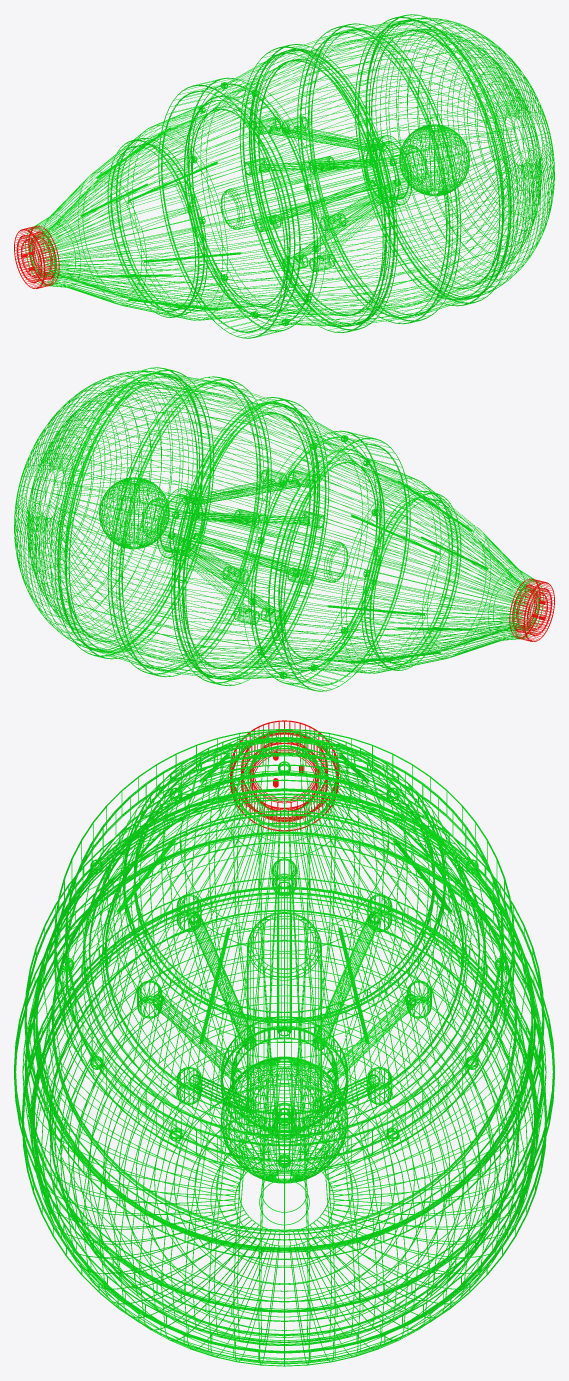
The model's file is shield-x50-highlight-power-input.glb.
The picture shows the model from 3 angles, top to bottom: view 1: azimuth 30°, elevation 25°; view 2: azimuth 150°, elevation 25°; view 3: azimuth 270°, elevation 25°; orthographic projection. The views are drawn at different scales.
Parts seen in each view (by area): view 1: chassis technical wire, paramagnetic-shielding technical wire, generator-and-broadcast-system technical wire, power-input technical wire; view 2: chassis technical wire, paramagnetic-shielding technical wire, generator-and-broadcast-system technical wire, power-input technical wire; view 3: paramagnetic-shielding technical wire, chassis technical wire, generator-and-broadcast-system technical wire, power-input technical wire.
Part boxes in pixels (x1,y1,x2,y2): chassis technical wire: (25,44,397,338); paramagnetic-shielding technical wire: (253,14,554,325); generator-and-broadcast-system technical wire: (221,116,469,271); power-input technical wire: (14,225,59,288); chassis technical wire: (171,397,543,691); paramagnetic-shielding technical wire: (14,367,315,678); generator-and-broadcast-system technical wire: (99,469,347,624); power-input technical wire: (509,578,554,641); paramagnetic-shielding technical wire: (14,796,554,1366); chassis technical wire: (24,728,544,1259); generator-and-broadcast-system technical wire: (137,858,431,1183); power-input technical wire: (230,720,338,831).
Bounding box in the file's own units: 3.9 × 2.05 × 2.05.
